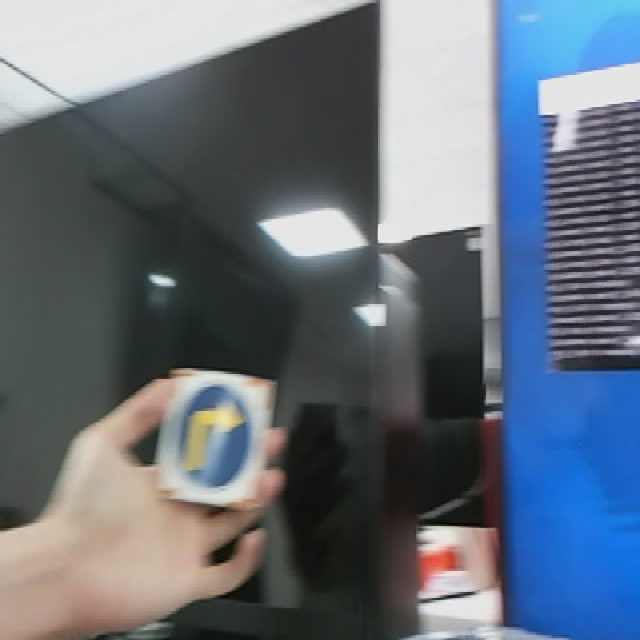right: (149, 366, 276, 508)
